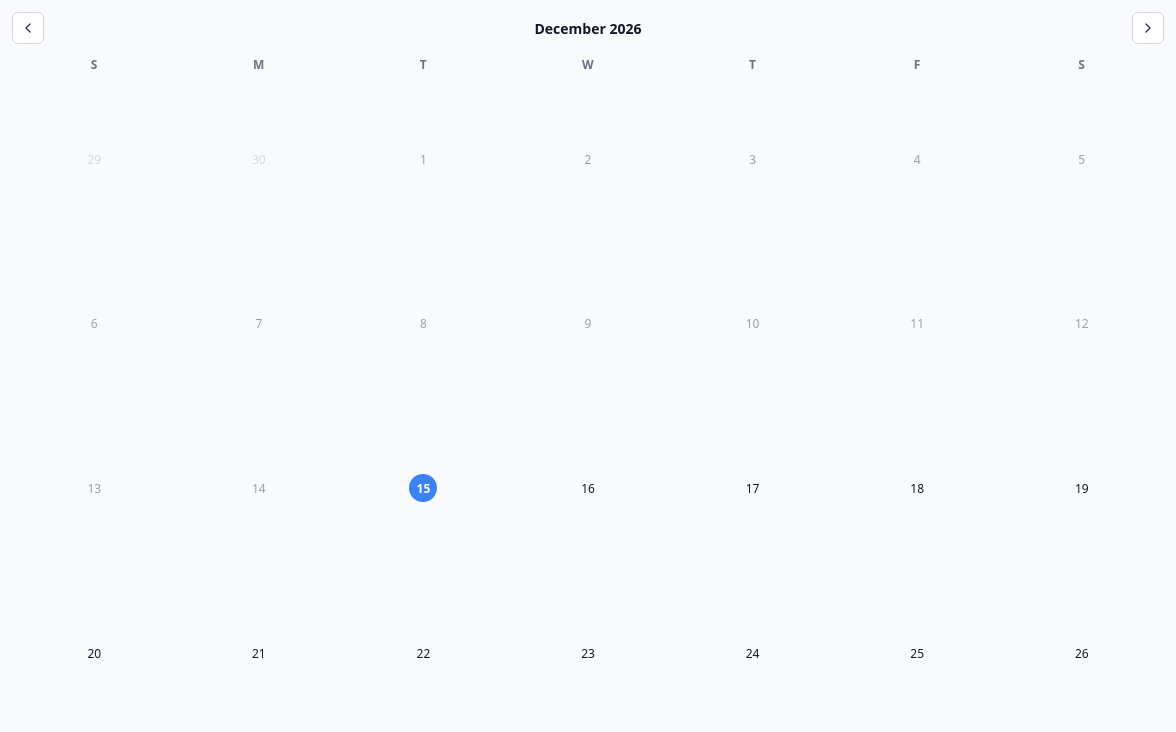
DateRangePicker › edge cases › handles year transitions when navigating forward from December
This screenshot has width=1176, height=732.
Click the button named "Next month".
click(1148, 28)  # box [1132, 12, 1164, 44]
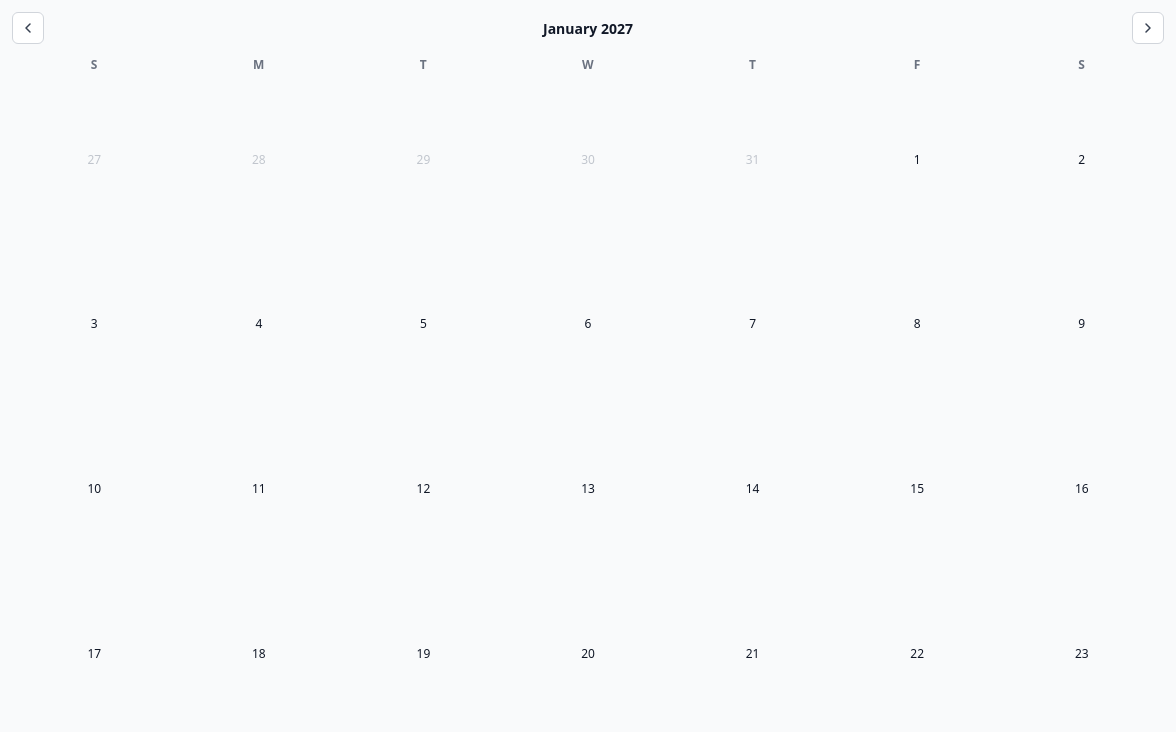
Check: the text with class "monthLabel" shows "2027", box [601, 18, 633, 38]
Check: the text with class "monthLabel" shows "January", box [543, 18, 597, 38]
